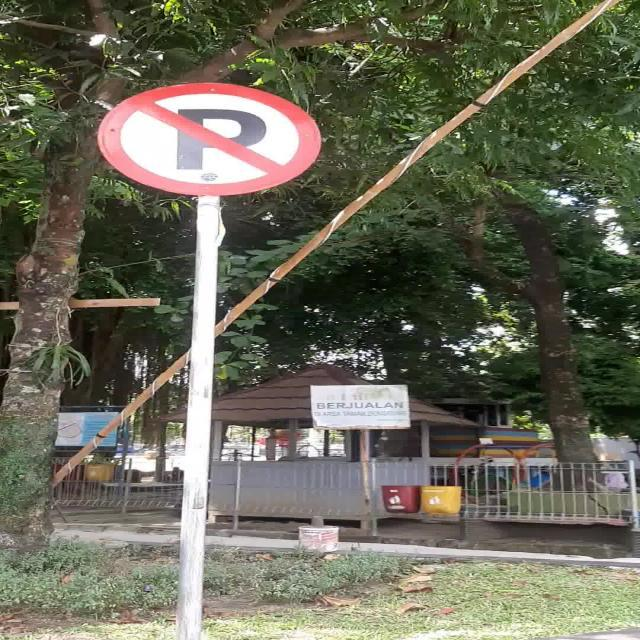Dilarang Parkir: (96, 81, 321, 196)
